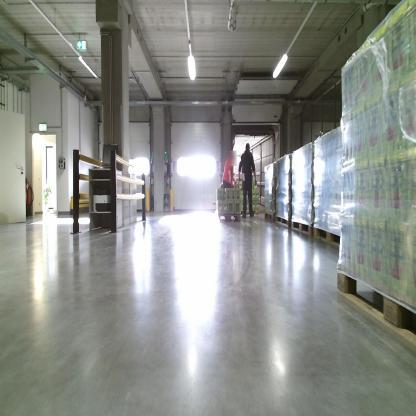pallets: (336, 270, 415, 346), (273, 214, 346, 253)
